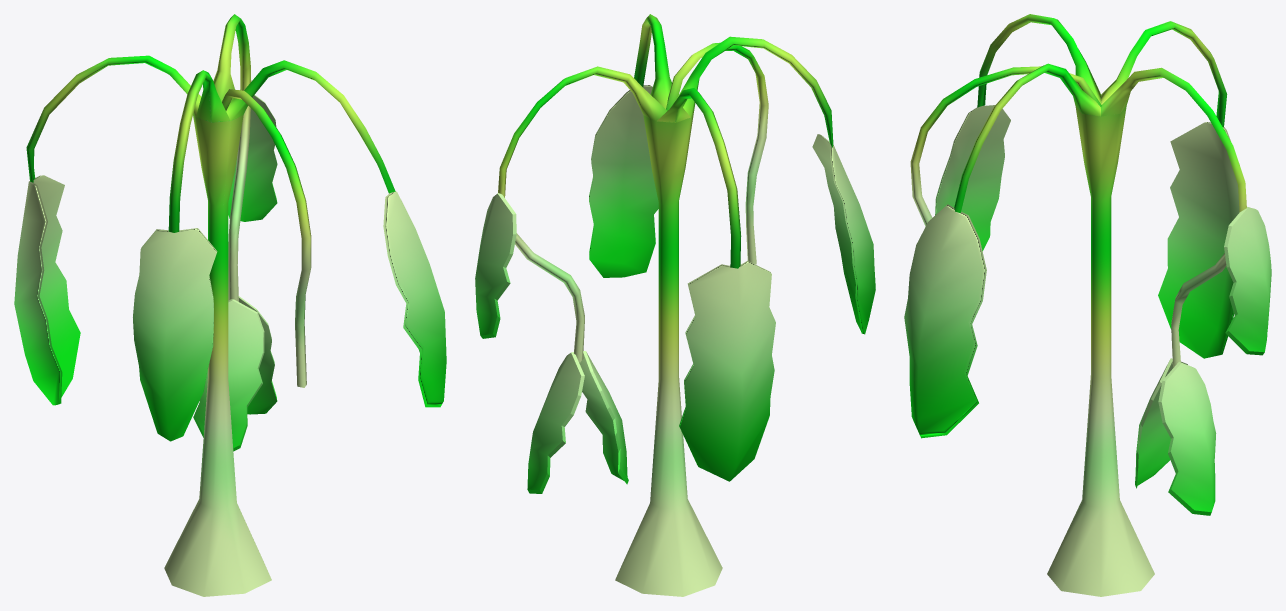
File: Fruit_Tree1.fbx
The picture shows the model from 3 angles, left to right: view 1: azimuth 30°, elevation 25°; view 2: azimuth 150°, elevation 25°; view 3: azimuth 270°, elevation 25°; orthographic projection.
Parts seen in each view (by area): view 1: Tree_Long4; view 2: Tree_Long4; view 3: Tree_Long4.
Boxes of the visible parts, x1=… form: Tree_Long4: x1=14, y1=14, x2=446, y2=596; Tree_Long4: x1=475, y1=14, x2=875, y2=596; Tree_Long4: x1=904, y1=14, x2=1271, y2=596.
Size of the model in its own units: 1.04 by 1.83 by 1.14.
